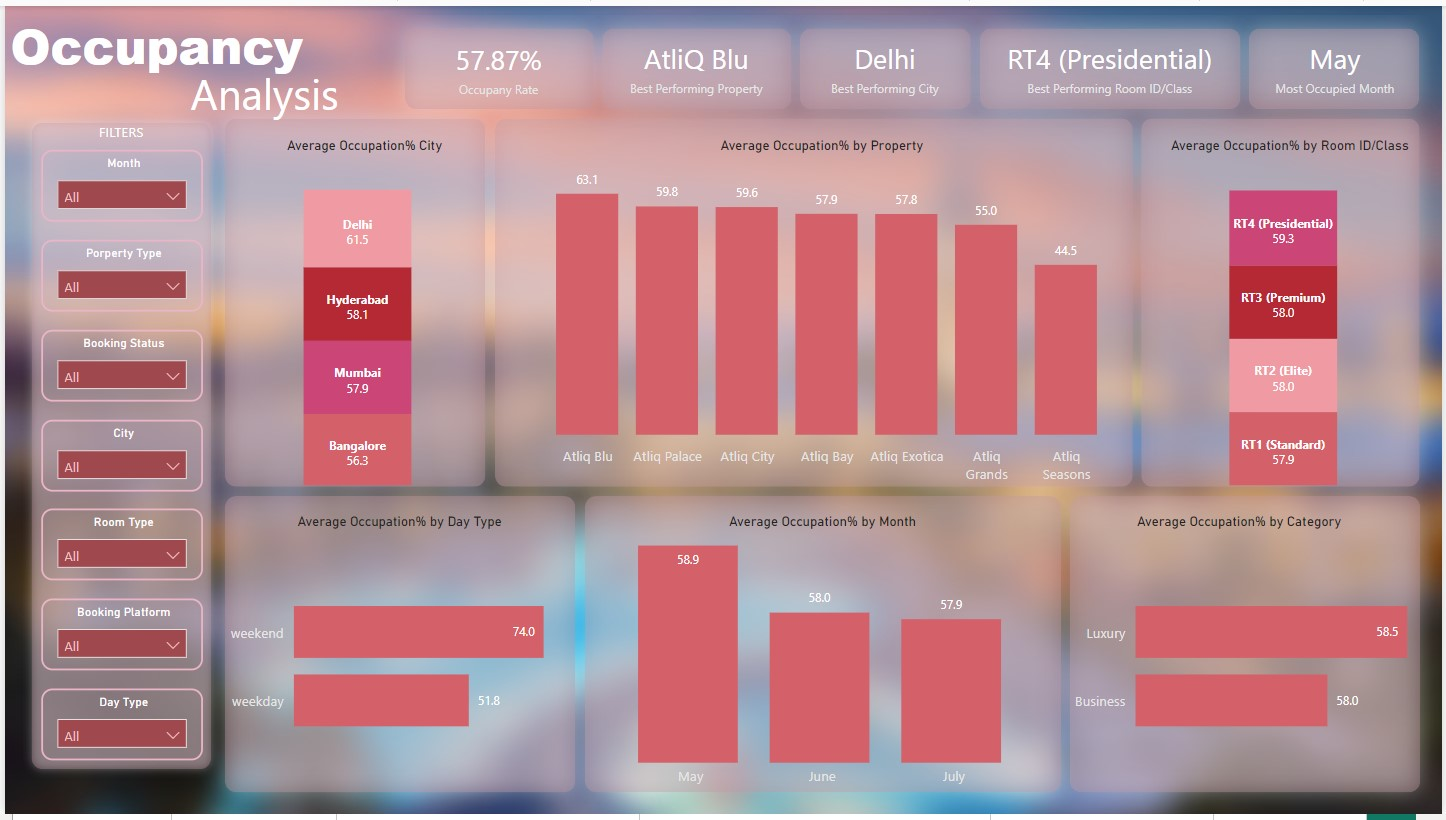

This screenshot's page, from the dashboard's own definition file:
{"tool":"powerbi","page":{"name":"Occupancy/Accommodation Analysis","canvas":[1280,720],"ordinal":2},"visuals":[{"type":"shape","title":"Filters","box":[992,80,288,368],"z":0},{"type":"shape","title":"Filters","box":[416,80,608,368],"z":1000},{"type":"shape","title":"Filters","box":[176,80,272,368],"z":2000},{"type":"shape","title":"Filters","box":[928,416,352,304],"z":3000},{"type":"shape","title":"Filters","box":[496,416,464,304],"z":4000},{"type":"shape","title":"Filters","box":[176,416,352,304],"z":5000},{"type":"shape","title":"Filters","box":[1088,0,192,112],"z":6000},{"type":"shape","title":"Filters","box":[16,96,176,592],"z":7000},{"type":"shape","title":"Filters","box":[848,0,272,112],"z":8000},{"type":"shape","title":"Filters","box":[688,0,192,112],"z":9000},{"type":"shape","title":"Filters","box":[512,0,208,112],"z":10000},{"type":"shape","title":"Filters","box":[336,0,208,112],"z":11000},{"type":"textbox","box":[0,0,320,80],"z":12000},{"type":"barChart","title":"Average Occupation% by Category","fields":{"Category":["agg_book.category"],"Y":["Avg(agg_book.occup_percent)"]},"box":[944,448,320,256],"z":13000},{"type":"card","fields":{"Values":["agg_book.Occupany Rate"]},"box":[352,16,176,80],"z":14000},{"type":"barChart","title":"Average Occupation% by Day Type","fields":{"Category":["agg_book.day_type"],"Y":["Avg(agg_book.occup_percent)"]},"box":[192,448,320,256],"z":15000},{"type":"columnChart","title":"Average Occupation% by Room ID/Class","fields":{"Series":["agg_book.room_id_class"],"Y":["Avg(agg_book.occup_percent)"]},"box":[1024,112,240,320],"z":16000},{"type":"columnChart","title":"Average Occupation% City","fields":{"Series":["agg_book.city"],"Y":["Avg(agg_book.occup_percent)"]},"box":[208,112,224,320],"z":17000},{"type":"slicer","title":"City","fields":{"Values":["agg_book.city"]},"box":[32,368,144,64],"z":18000},{"type":"slicer","title":"Porperty Type","fields":{"Values":["agg_book.property_name"]},"box":[32,208,144,64],"z":19000},{"type":"slicer","title":"Booking Platform","fields":{"Values":["bookings.booking_platform"]},"box":[32,528,144,64],"z":20000},{"type":"slicer","title":"Month","fields":{"Values":["agg_book.Month"]},"box":[32,128,144,64],"z":21000},{"type":"slicer","title":"Day Type","fields":{"Values":["agg_book.day_type"]},"box":[32,608,144,64],"z":22000},{"type":"slicer","title":"Booking Status","fields":{"Values":["bookings.booking_status"]},"box":[32,288,144,64],"z":23000},{"type":"slicer","title":"Room Type","fields":{"Values":["agg_book.room_id_class"]},"box":[32,448,144,64],"z":24000},{"type":"textbox","box":[160,48,160,64],"z":25000},{"type":"columnChart","title":"Average Occupation% by Property","fields":{"Category":["agg_book.property_name"],"Y":["Avg(agg_book.occup_percent)"]},"box":[448,112,560,320],"z":26000},{"type":"columnChart","title":"Average Occupation% by Month","fields":{"Category":["agg_book.Month"],"Y":["Avg(agg_book.occup_percent)"]},"box":[512,448,432,256],"z":27000},{"type":"textbox","box":[528,16,176,80],"z":28000},{"type":"textbox","box":[704,16,160,80],"z":29000},{"type":"textbox","box":[864,16,240,80],"z":30000},{"type":"textbox","box":[1104,16,160,80],"z":31000}]}

Visuals, with their boxes in screenshot pixels (x1, y1, x2, y2), scaled from the page's 1280x720 canvas onto the 1446x820 screenshot:
"Filters" shape: {"left": 1121, "top": 91, "right": 1445, "bottom": 510}
"Filters" shape: {"left": 470, "top": 91, "right": 1157, "bottom": 510}
"Filters" shape: {"left": 199, "top": 91, "right": 506, "bottom": 510}
"Filters" shape: {"left": 1048, "top": 474, "right": 1445, "bottom": 819}
"Filters" shape: {"left": 560, "top": 474, "right": 1084, "bottom": 819}
"Filters" shape: {"left": 199, "top": 474, "right": 596, "bottom": 819}
"Filters" shape: {"left": 1229, "top": 0, "right": 1445, "bottom": 128}
"Filters" shape: {"left": 18, "top": 109, "right": 217, "bottom": 784}
"Filters" shape: {"left": 958, "top": 0, "right": 1265, "bottom": 128}
"Filters" shape: {"left": 777, "top": 0, "right": 994, "bottom": 128}
"Filters" shape: {"left": 578, "top": 0, "right": 813, "bottom": 128}
"Filters" shape: {"left": 380, "top": 0, "right": 615, "bottom": 128}
textbox: {"left": 0, "top": 0, "right": 362, "bottom": 91}
"Average Occupation% by Category" barChart: {"left": 1066, "top": 510, "right": 1428, "bottom": 802}
card - agg_book.Occupany Rate: {"left": 398, "top": 18, "right": 596, "bottom": 109}
"Average Occupation% by Day Type" barChart: {"left": 217, "top": 510, "right": 578, "bottom": 802}
"Average Occupation% by Room ID/Class" columnChart: {"left": 1157, "top": 128, "right": 1428, "bottom": 492}
"Average Occupation% City" columnChart: {"left": 235, "top": 128, "right": 488, "bottom": 492}
"City" slicer: {"left": 36, "top": 419, "right": 199, "bottom": 492}
"Porperty Type" slicer: {"left": 36, "top": 237, "right": 199, "bottom": 310}
"Booking Platform" slicer: {"left": 36, "top": 601, "right": 199, "bottom": 674}
"Month" slicer: {"left": 36, "top": 146, "right": 199, "bottom": 219}
"Day Type" slicer: {"left": 36, "top": 692, "right": 199, "bottom": 765}
"Booking Status" slicer: {"left": 36, "top": 328, "right": 199, "bottom": 401}
"Room Type" slicer: {"left": 36, "top": 510, "right": 199, "bottom": 583}
textbox: {"left": 181, "top": 55, "right": 362, "bottom": 128}
"Average Occupation% by Property" columnChart: {"left": 506, "top": 128, "right": 1139, "bottom": 492}
"Average Occupation% by Month" columnChart: {"left": 578, "top": 510, "right": 1066, "bottom": 802}
textbox: {"left": 596, "top": 18, "right": 795, "bottom": 109}
textbox: {"left": 795, "top": 18, "right": 976, "bottom": 109}
textbox: {"left": 976, "top": 18, "right": 1247, "bottom": 109}
textbox: {"left": 1247, "top": 18, "right": 1428, "bottom": 109}
